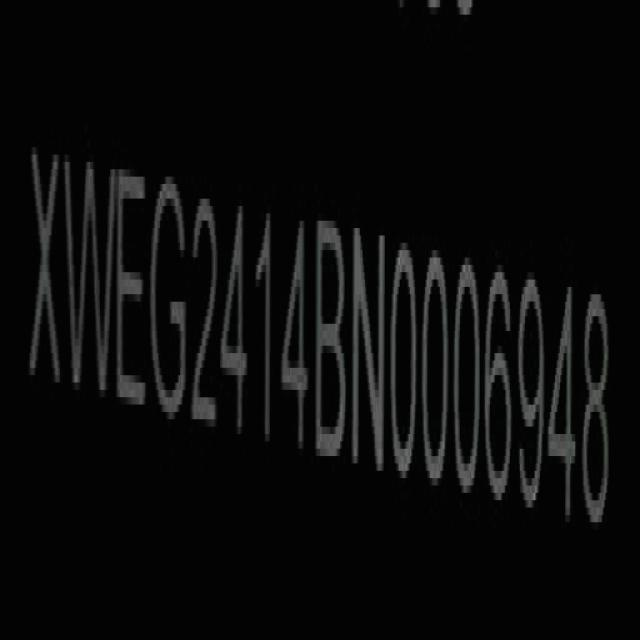0: (394, 235, 421, 486), (454, 252, 482, 494), (422, 247, 449, 495)
1: (256, 196, 276, 452)
2: (192, 184, 222, 440)
4: (283, 205, 313, 462), (222, 190, 250, 447), (551, 284, 578, 530)
6: (485, 262, 513, 508)
8: (584, 285, 614, 532)
9: (517, 272, 546, 518)
B: (316, 216, 348, 468)
E: (116, 156, 148, 423)
G: (150, 163, 188, 429)
N: (354, 223, 387, 482)
W: (64, 147, 115, 416)
X: (28, 134, 66, 408)
